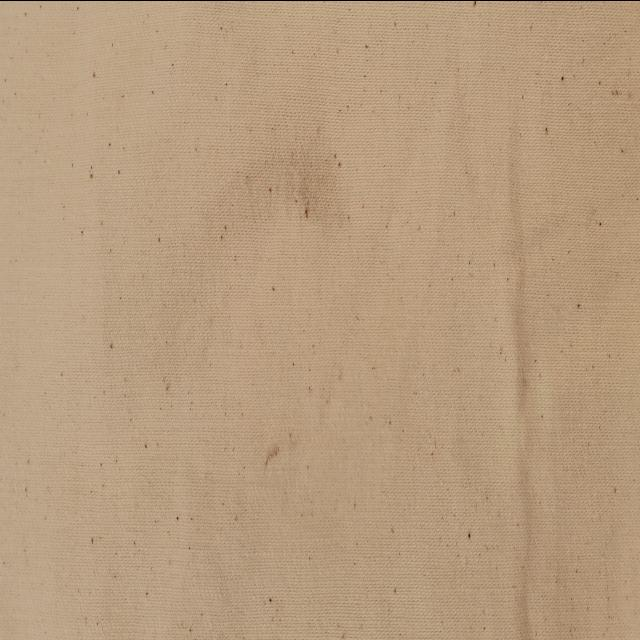taaaches: (225, 117, 342, 245), (258, 438, 282, 483)
